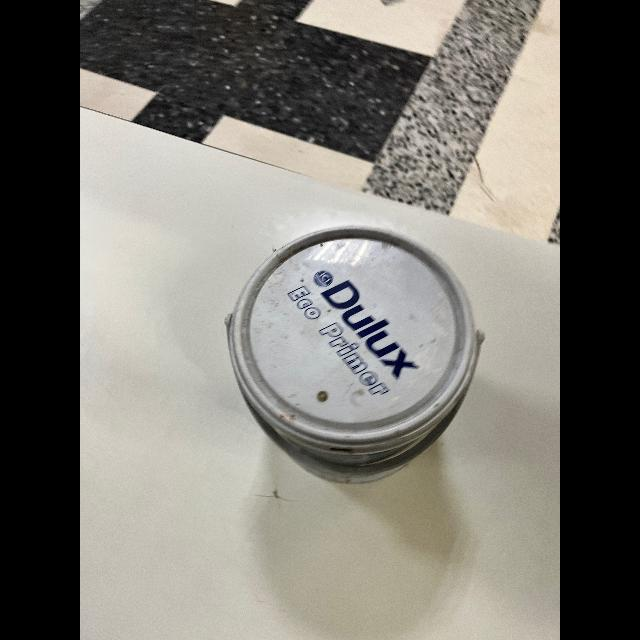paint_bucket: (222, 216, 486, 488)
